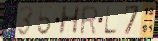3: (17, 5, 36, 37)
5: (36, 5, 56, 37)
7: (123, 4, 142, 36)
H: (57, 4, 82, 36)
L: (102, 5, 118, 36)
R: (79, 4, 99, 36)
